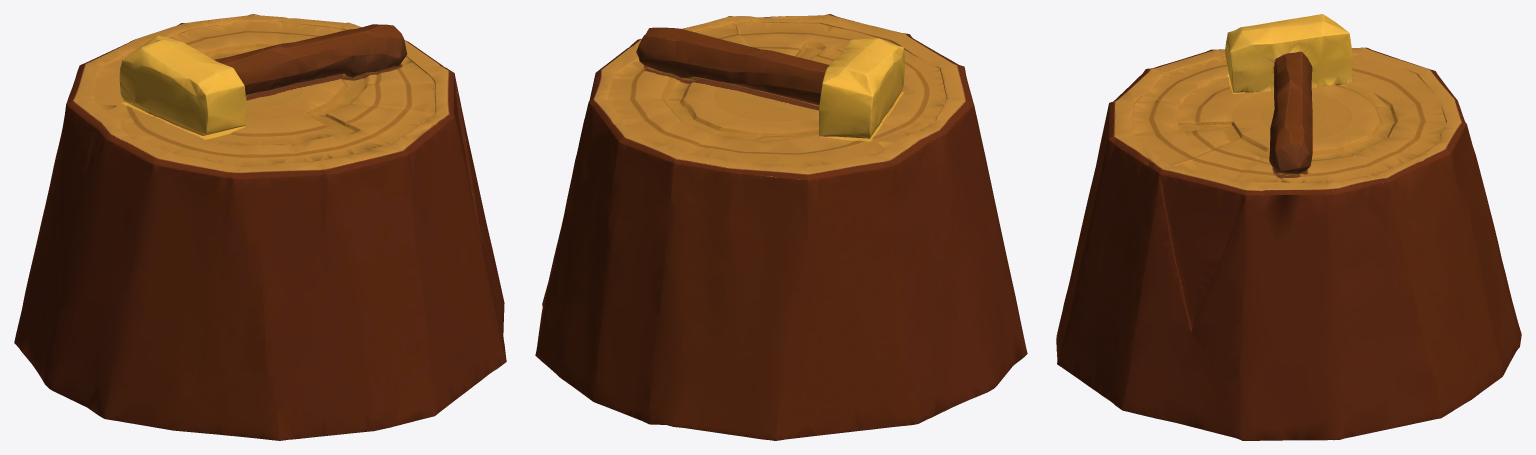
The model's file is carved-stump-ultra.glb.
The picture shows the model from 3 angles, left to right: view 1: azimuth 30°, elevation 25°; view 2: azimuth 150°, elevation 25°; view 3: azimuth 270°, elevation 25°; orthographic projection. The views are drawn at different scales.
Parts seen in each view (by area): view 1: bridge-stump-carved-hammer; view 2: bridge-stump-carved-hammer; view 3: bridge-stump-carved-hammer.
Part boxes in pixels (x1,y1,x2,y2): bridge-stump-carved-hammer: [14, 14, 506, 440]; bridge-stump-carved-hammer: [535, 14, 1027, 440]; bridge-stump-carved-hammer: [1056, 14, 1521, 440].
Size of the model in its own units: 1.16 by 0.7858 by 1.17.
Materials: 1 (1 with a texture image).
